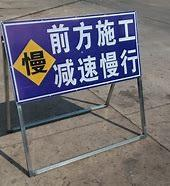sign: (4, 23, 142, 101)
